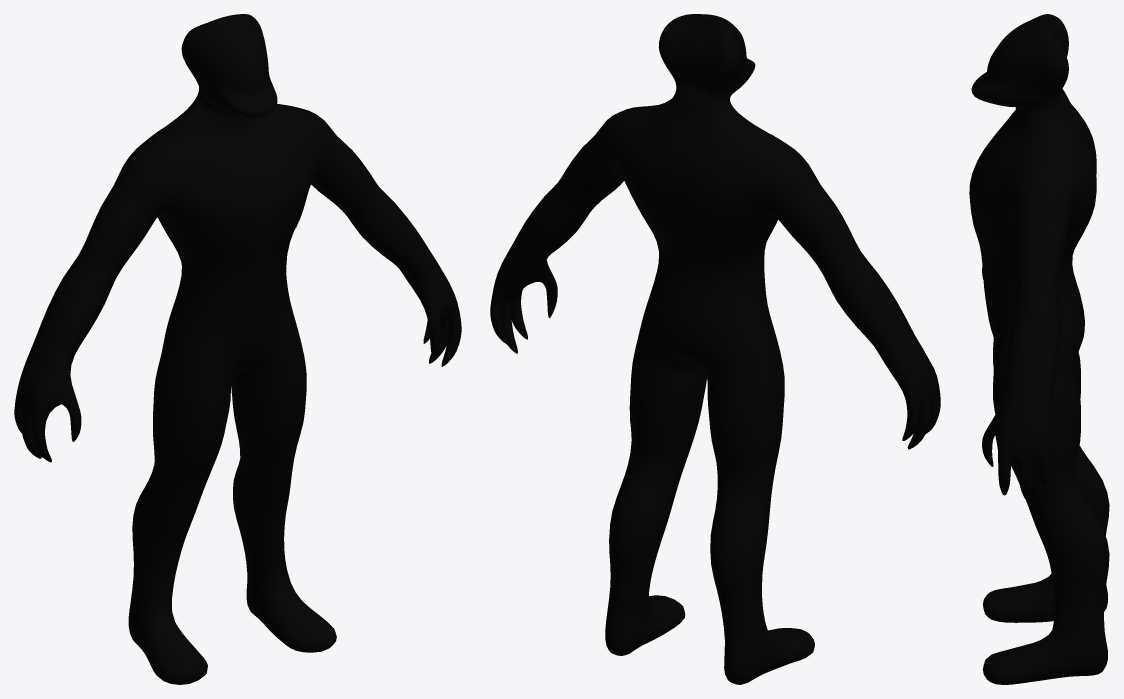
File: Jump From Wall.fbx
3 renders of one model, left to right at view 1: azimuth 30°, elevation 25°; view 2: azimuth 150°, elevation 25°; view 3: azimuth 270°, elevation 25°, orthographic.
Parts seen in each view (by area): view 1: node_id51; view 2: node_id51; view 3: node_id51.
Boxes of the visible parts, x1,y1,x2,y2 form: node_id51: (14, 14, 461, 684); node_id51: (490, 14, 940, 684); node_id51: (969, 14, 1109, 684).
Bounding box in the file's own units: 0.363 × 0.512 × 0.1035.
Materials: 1 (1 with a texture image).
